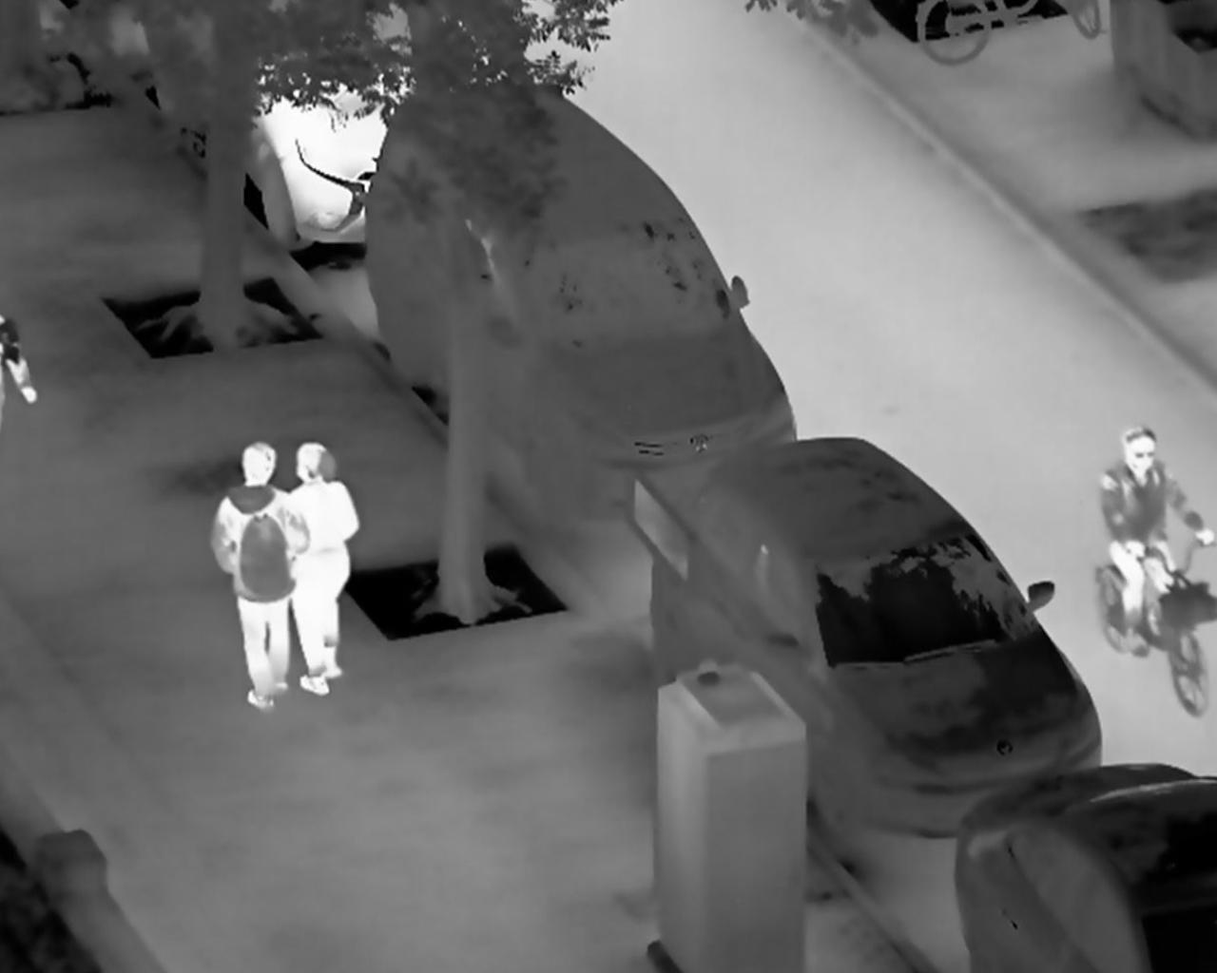person: (1095, 423, 1217, 663), (205, 441, 310, 711), (278, 438, 359, 698)
